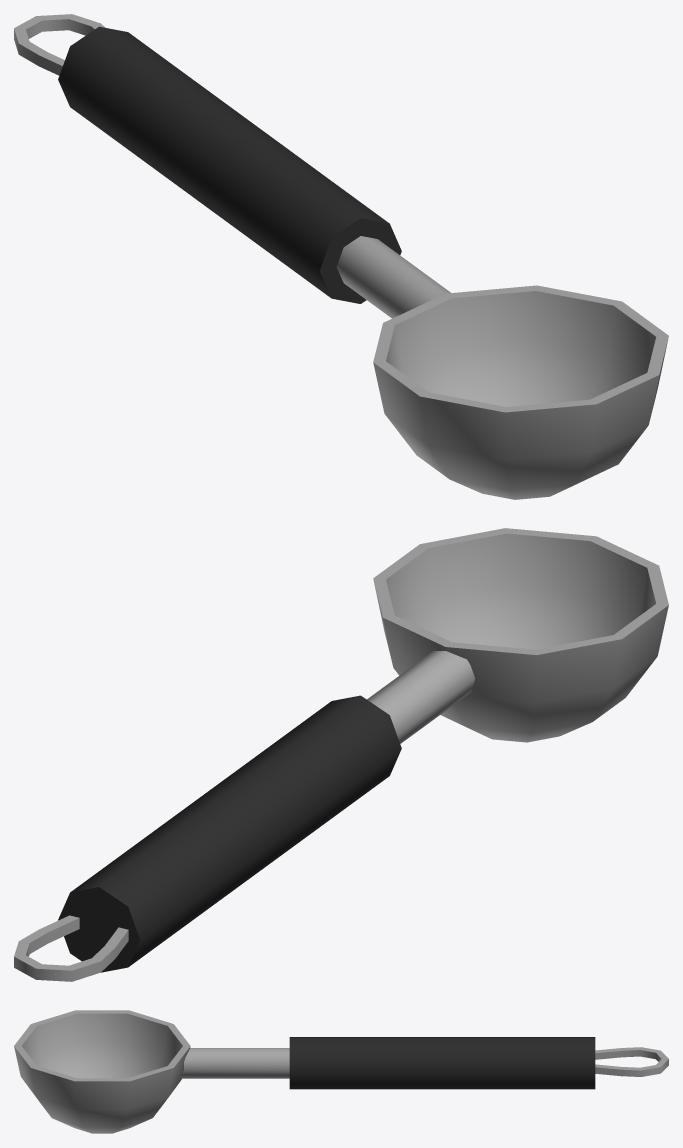
File: IceCreamScoop_01.fbx
The picture shows the model from 3 angles, top to bottom: view 1: azimuth 30°, elevation 25°; view 2: azimuth 150°, elevation 25°; view 3: azimuth 270°, elevation 25°; orthographic projection. The views are drawn at different scales.
Parts seen in each view (by area): view 1: IceCreamScoop_01; view 2: IceCreamScoop_01; view 3: IceCreamScoop_01.
Boxes of the visible parts, bbox=[...] form: IceCreamScoop_01: bbox=[14, 14, 668, 499]; IceCreamScoop_01: bbox=[14, 528, 668, 981]; IceCreamScoop_01: bbox=[14, 1010, 668, 1133].
Size of the model in its own units: 0.0665 by 0.0384 by 0.2594.
